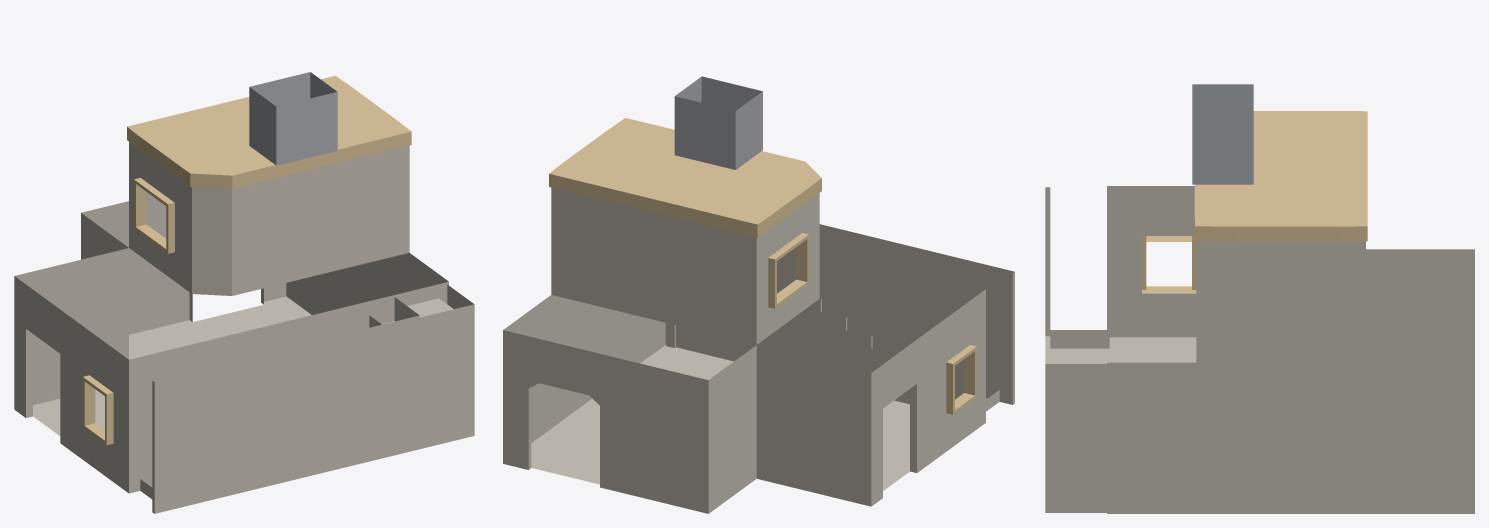
Rendered from Bld_R_high_L2_A.fbx.
3 renders of one model, left to right at view 1: azimuth 30°, elevation 25°; view 2: azimuth 150°, elevation 25°; view 3: azimuth 270°, elevation 25°, orthographic. The views are drawn at different scales.
Parts seen in each view (by area): view 1: Bld_R_high_L2_A_LOD0; view 2: Bld_R_high_L2_A_LOD0; view 3: Bld_R_high_L2_A_LOD0.
Boxes of the visible parts, bbox=[...] form: Bld_R_high_L2_A_LOD0: bbox=[14, 72, 474, 513]; Bld_R_high_L2_A_LOD0: bbox=[503, 76, 1014, 513]; Bld_R_high_L2_A_LOD0: bbox=[1045, 84, 1474, 513].
Size of what is drawn, in the model's own units: 1400 by 1597 by 1407.
1 material, 1 textured.
